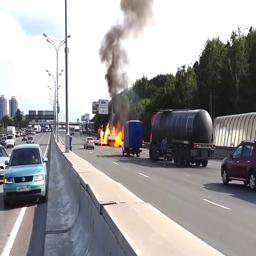fire: (99, 123, 125, 147)
